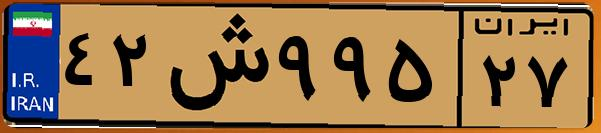2: (475, 38, 525, 113), (110, 28, 158, 98)
4: (57, 26, 110, 100)
5: (385, 28, 445, 110)
7: (525, 38, 570, 115)
9: (270, 28, 330, 110), (330, 28, 385, 110)
ش: (158, 12, 270, 120)
